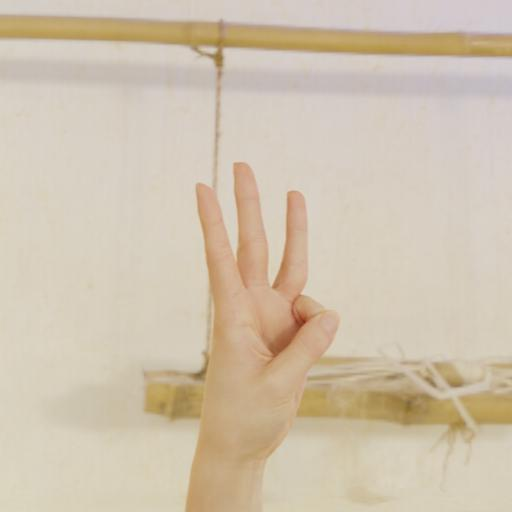W: (174, 156, 348, 449)
